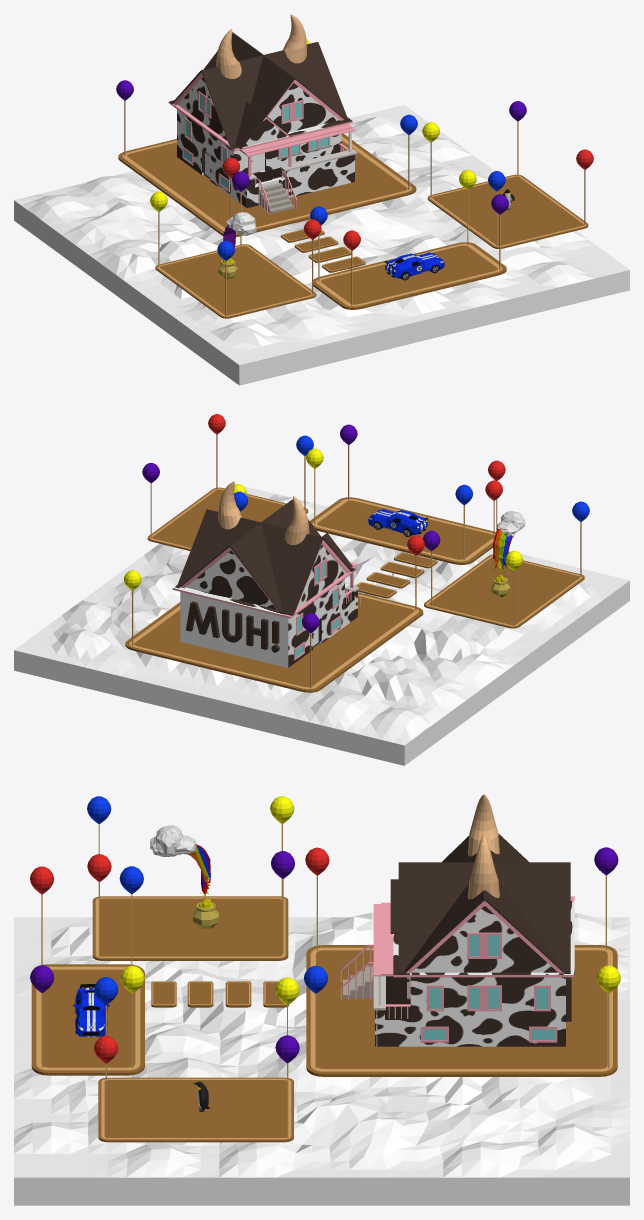
3 renders of one model, top to bottom at view 1: azimuth 30°, elevation 25°; view 2: azimuth 150°, elevation 25°; view 3: azimuth 270°, elevation 25°, orthographic. The views are drawn at different scales.
Parts seen in each view (by area): view 1: Cube.013, Cube.1242, VEHICLES_RACING_CAR, OBJRANDOM_RAINBOW; view 2: Cube.013, Cube.1242, OBJRANDOM_RAINBOW, VEHICLES_RACING_CAR; view 3: Cube.013, Cube.1242, OBJRANDOM_RAINBOW, VEHICLES_RACING_CAR.
Boxes of the visible parts, left/top/right/bottom form: Cube.013: left=14, top=38, right=629, bottom=385; Cube.1242: left=168, top=14, right=357, bottom=214; VEHICLES_RACING_CAR: left=384, top=252, right=444, bottom=280; OBJRANDOM_RAINBOW: left=218, top=212, right=256, bottom=279; Cube.013: left=14, top=414, right=629, bottom=765; Cube.1242: left=172, top=481, right=360, bottom=667; OBJRANDOM_RAINBOW: left=491, top=510, right=525, bottom=597; VEHICLES_RACING_CAR: left=368, top=509, right=427, bottom=536; Cube.013: left=14, top=796, right=629, bottom=1205; Cube.1242: left=340, top=794, right=574, bottom=1046; OBJRANDOM_RAINBOW: left=150, top=825, right=218, bottom=928; VEHICLES_RACING_CAR: left=73, top=984, right=109, bottom=1036.
Bounding box in the file's own units: 4000 × 1925 × 4000.
44 materials, 1 textured.
